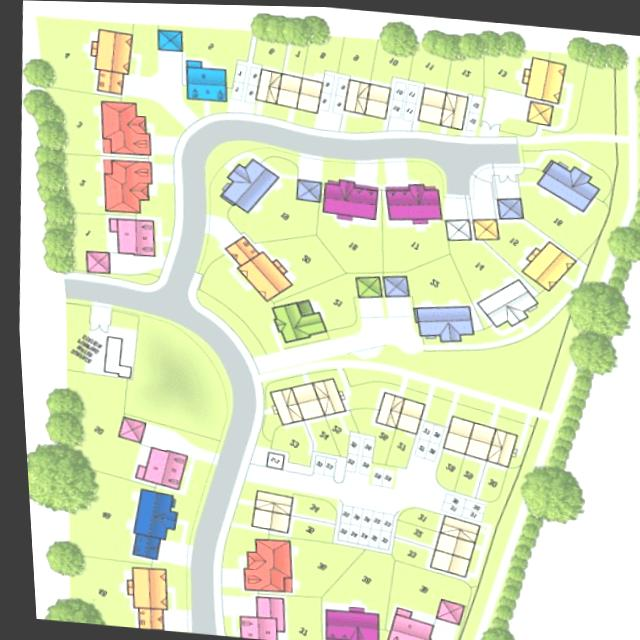greenish: (133, 330, 201, 429), (425, 350, 543, 390), (78, 477, 126, 560), (41, 16, 92, 84), (61, 92, 103, 157), (527, 204, 597, 239), (582, 63, 616, 133), (386, 565, 437, 611), (324, 223, 379, 265), (287, 540, 332, 589), (65, 157, 100, 217), (75, 419, 116, 468), (79, 560, 117, 612), (446, 239, 496, 278), (345, 548, 379, 605), (188, 28, 246, 59), (77, 374, 118, 417), (276, 596, 316, 640), (260, 200, 313, 233), (382, 227, 430, 263), (204, 141, 224, 218), (192, 234, 212, 308), (277, 240, 323, 272), (415, 264, 456, 297), (411, 50, 447, 87), (337, 366, 400, 387), (72, 216, 105, 253), (340, 35, 369, 76), (177, 465, 199, 519), (452, 55, 484, 92), (314, 283, 348, 316), (526, 321, 558, 356), (285, 493, 326, 519), (486, 54, 517, 88), (452, 393, 488, 422), (207, 263, 233, 302), (60, 510, 85, 550), (562, 58, 583, 105), (267, 428, 306, 453), (575, 139, 615, 163), (515, 138, 563, 158), (373, 49, 406, 78), (248, 144, 295, 164), (159, 567, 181, 608), (382, 427, 404, 468), (495, 223, 525, 253), (307, 42, 340, 69), (132, 23, 156, 60), (283, 520, 329, 539), (423, 385, 444, 426), (57, 357, 80, 394), (238, 297, 263, 331), (385, 540, 421, 563), (181, 98, 227, 116), (220, 525, 247, 555), (476, 461, 498, 497), (391, 522, 427, 544), (430, 449, 452, 484), (302, 420, 326, 451), (256, 40, 286, 63), (403, 160, 433, 183), (492, 407, 520, 431), (366, 427, 385, 462), (341, 385, 371, 407), (103, 309, 133, 331), (500, 116, 531, 137), (152, 188, 170, 224), (452, 457, 470, 493), (319, 156, 349, 177), (107, 271, 152, 285), (437, 579, 463, 603), (562, 106, 586, 132), (344, 408, 368, 434), (345, 114, 379, 132), (378, 348, 416, 364), (322, 416, 346, 441), (61, 305, 83, 332), (253, 412, 269, 448), (589, 166, 611, 190), (60, 575, 81, 600), (396, 506, 428, 522), (256, 102, 285, 119), (153, 114, 177, 134), (285, 44, 302, 71), (92, 19, 130, 31), (230, 213, 256, 230), (475, 502, 494, 524), (370, 156, 385, 183), (290, 109, 314, 125), (226, 503, 244, 524), (534, 288, 552, 308), (210, 583, 236, 596), (135, 99, 156, 114), (281, 454, 304, 466), (233, 481, 247, 500), (213, 616, 227, 635), (415, 121, 439, 132), (214, 553, 229, 569), (149, 154, 170, 163)
